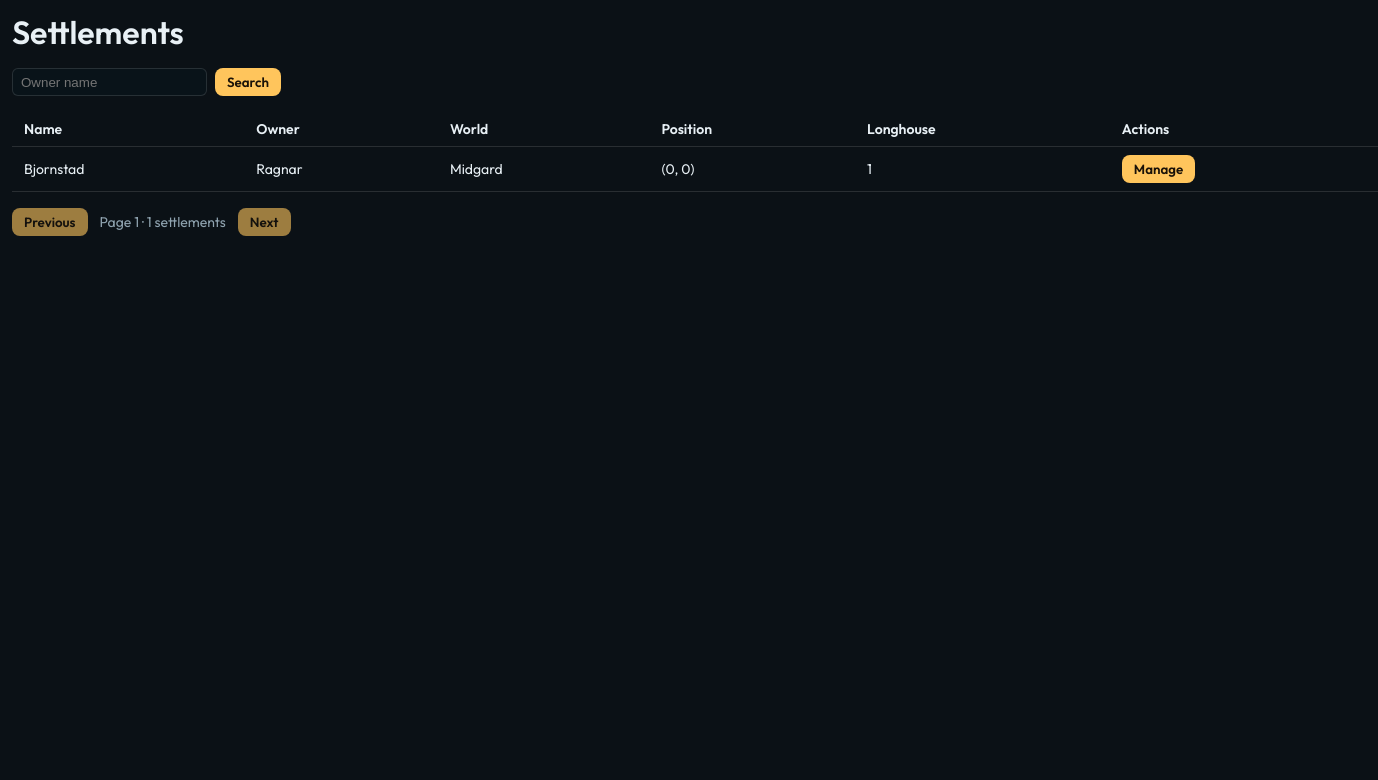
Test case: AdminSettlementsView › finishes the queue instantly and reports what it built
This screenshot has width=1378, height=780.
Step 1. Click the button "Manage" → (1158, 169), box [1122,155,1195,183]
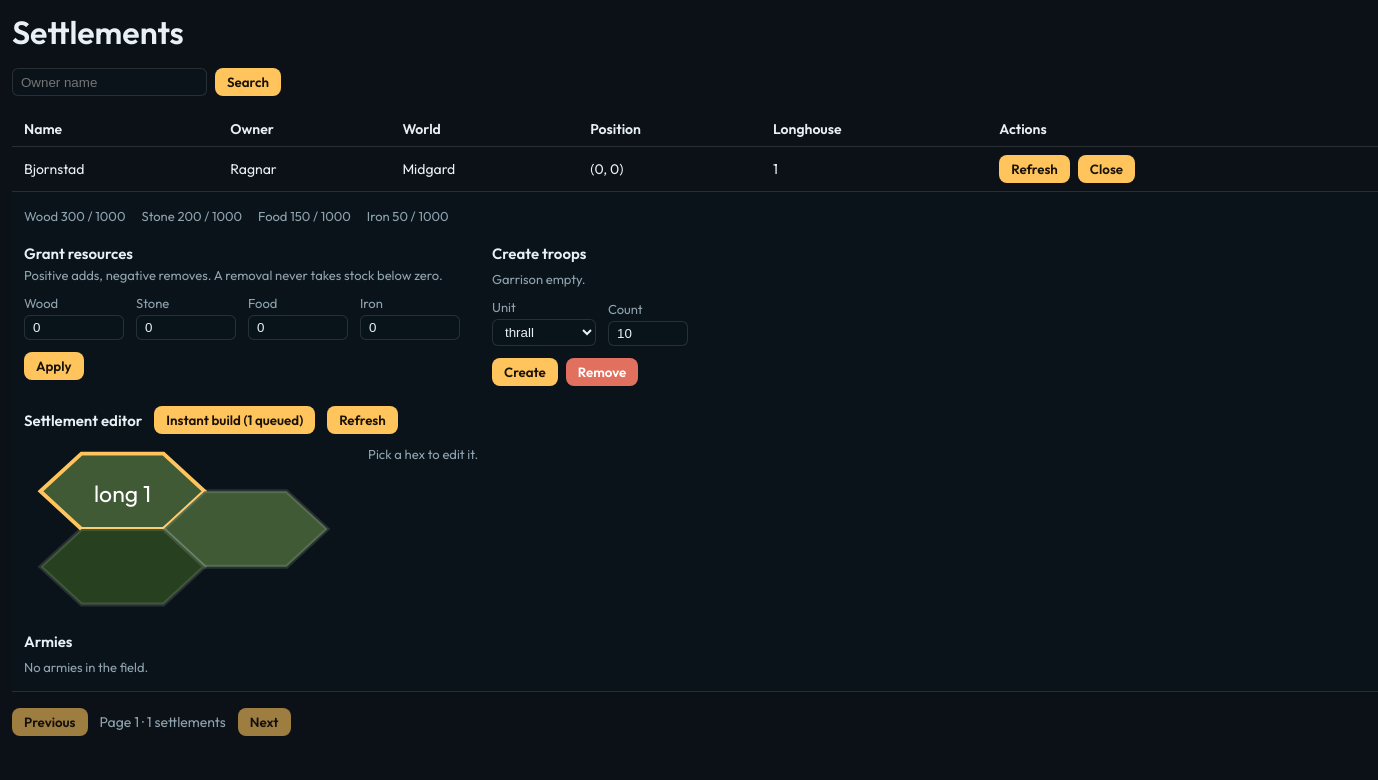
Step 2. Click the button with class "insta" → (235, 420), box [154,406,315,434]
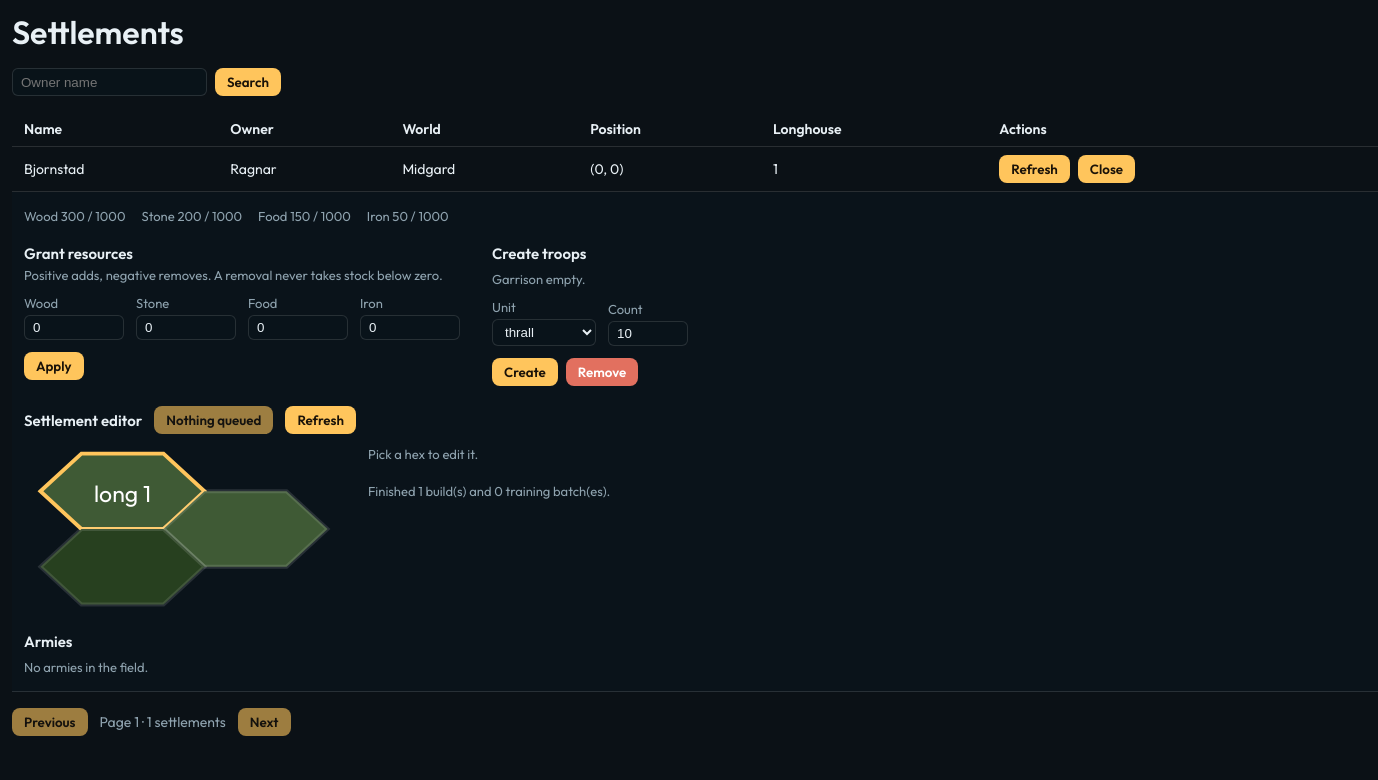
Result: the text "Finished 1 build(s)" is shown at [368,483,610,499]
